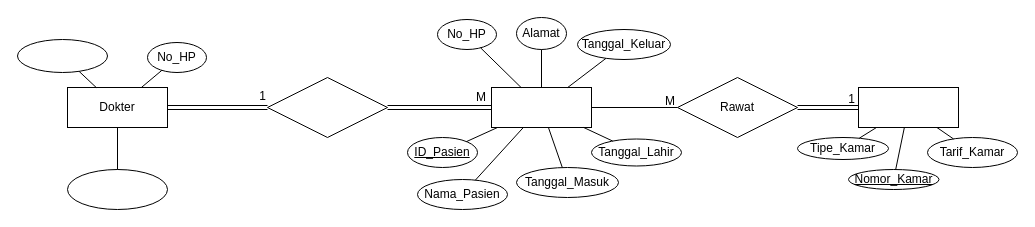
This 1035x227 diagram has some shape labels left out. Here are the shapes that lost their labels. From the top down, the centre of each, then its label:
At point 62,55: "Nama_Dokter".
At point 327,107: "Menangani".
At point 541,107: "Pasien".
At point 908,107: "Kamar".
At point 117,189: "ID_Dokter".
